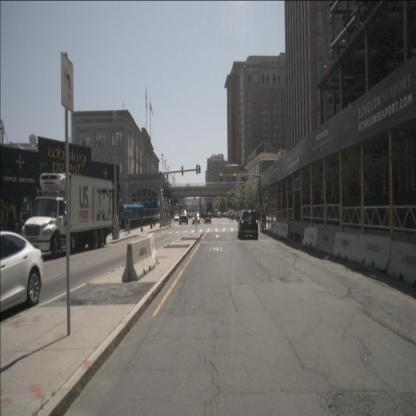human-pedestrian-adult: (259, 208, 267, 232), (125, 213, 130, 235), (117, 214, 122, 233), (152, 213, 156, 228), (230, 211, 234, 223)
movable_object-barrier: (121, 238, 156, 282), (354, 232, 392, 272), (386, 240, 416, 285), (332, 232, 360, 263), (315, 226, 336, 256), (302, 227, 318, 249), (148, 233, 158, 265), (280, 223, 289, 239), (274, 222, 282, 236), (269, 221, 276, 234)
vehicle-car: (0, 228, 45, 317), (238, 208, 258, 240), (236, 209, 246, 223), (192, 212, 200, 224), (232, 211, 240, 220), (214, 208, 219, 218), (174, 213, 180, 221), (216, 211, 222, 218), (227, 210, 231, 218), (208, 211, 212, 218), (223, 211, 226, 218)
vehicle-truck: (22, 172, 115, 258), (179, 208, 188, 225)
